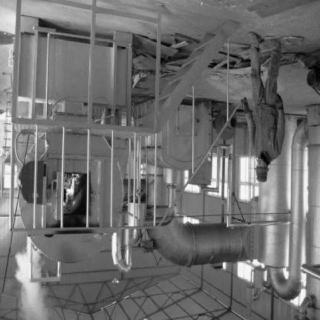Fire: (58, 172, 82, 228)
Smoke: (15, 246, 43, 314)
other: (12, 160, 42, 209), (138, 239, 154, 257)
